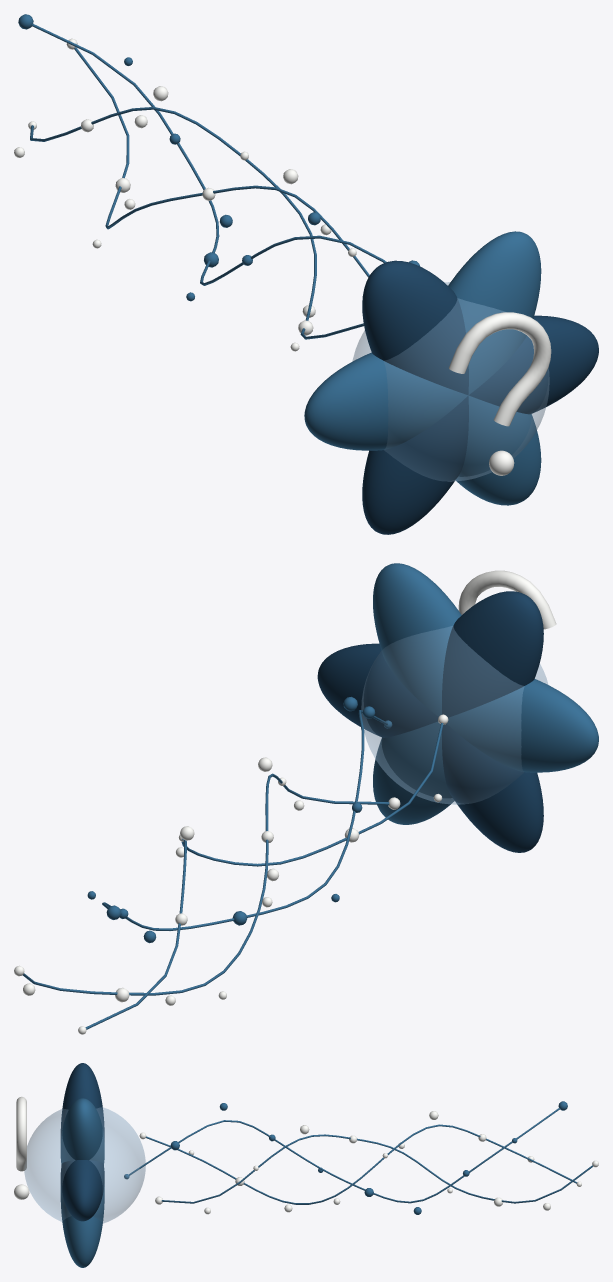
Rendered from socra-question-core.glb.
3 views of the same model, one above another, from view 1: azimuth 30°, elevation 25°; view 2: azimuth 150°, elevation 25°; view 3: azimuth 270°, elevation 25° (orthographic). The views are drawn at different scales.
Visible parts, largest first — view 1: CoreLens, Petal04, Petal03, Petal05, Petal02, Petal06, Petal01, QuestionArc, InsightThread01, InsightThread02, InsightThread03; view 2: CoreLens, Petal03, Petal04, Petal02, Petal05, Petal01, Petal06, QuestionArc, InsightThread02, InsightThread03, InsightThread01; view 3: CoreLens, Petal02, Petal01, Petal06, Petal03, InsightThread03, InsightThread01, InsightThread02, QuestionArc.
Boxes of the visible parts, left/top/right/bottom form: CoreLens: left=352, top=282, right=549, bottom=481; Petal04: left=304, top=352, right=467, bottom=450; Petal03: left=362, top=260, right=468, bottom=394; Petal05: left=362, top=396, right=468, bottom=534; Petal02: left=448, top=231, right=541, bottom=394; Petal06: left=456, top=395, right=541, bottom=505; Petal01: left=468, top=315, right=598, bottom=414; QuestionArc: left=449, top=312, right=551, bottom=426; InsightThread01: left=32, top=24, right=386, bottom=285; InsightThread02: left=30, top=107, right=363, bottom=339; InsightThread03: left=74, top=47, right=369, bottom=277; CoreLens: left=361, top=614, right=548, bottom=804; Petal03: left=442, top=591, right=543, bottom=717; Petal04: left=446, top=679, right=598, bottom=772; Petal02: left=373, top=563, right=461, bottom=716; Petal05: left=442, top=724, right=543, bottom=852; Petal01: left=317, top=643, right=438, bottom=737; Petal06: left=373, top=721, right=454, bottom=824; QuestionArc: left=458, top=570, right=556, bottom=629; InsightThread02: left=85, top=723, right=443, bottom=1029; InsightThread03: left=22, top=773, right=389, bottom=995; InsightThread01: left=102, top=710, right=387, bottom=930; CoreLens: left=24, top=1107, right=145, bottom=1223; Petal02: left=60, top=1098, right=104, bottom=1163; Petal01: left=60, top=1160, right=104, bottom=1221; Petal06: left=60, top=1184, right=104, bottom=1267; Petal03: left=60, top=1063, right=104, bottom=1142; InsightThread03: left=161, top=1134, right=593, bottom=1203; InsightThread01: left=128, top=1108, right=560, bottom=1203; InsightThread02: left=146, top=1124, right=576, bottom=1204; QuestionArc: left=16, top=1096, right=26, bottom=1171.
Bounding box in the file's own units: 2.8 × 2.48 × 7.96.
